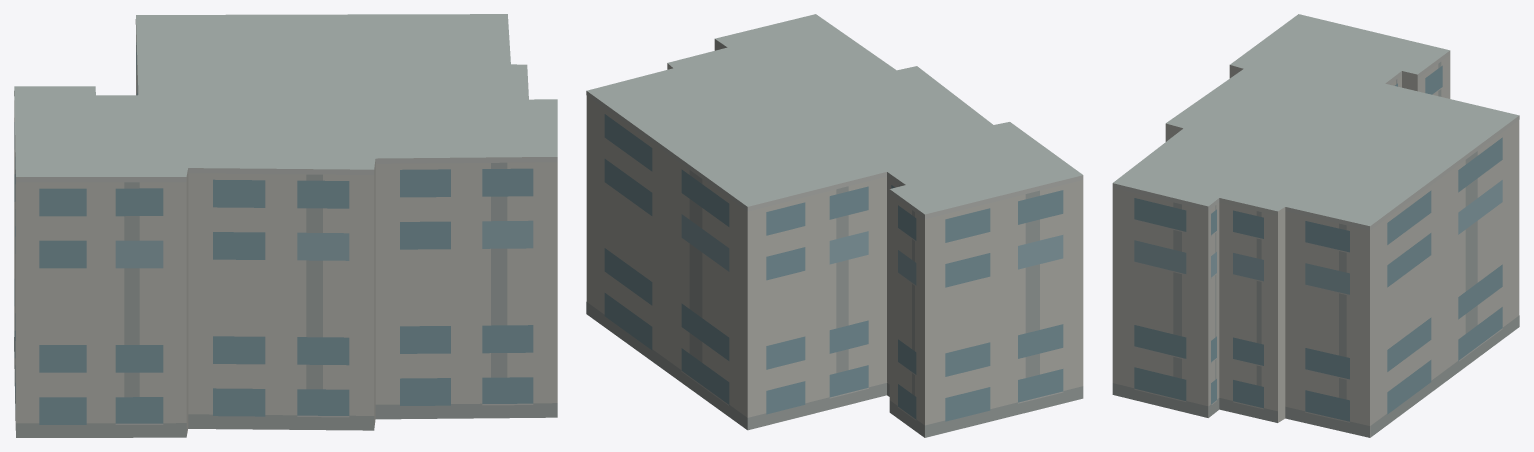
File: survey-upis-32524919.glb
3 renders of one model, left to right at view 1: azimuth 30°, elevation 25°; view 2: azimuth 150°, elevation 25°; view 3: azimuth 270°, elevation 25°, orthographic. The views are drawn at different scales.
Parts seen in each view (by area): view 1: survey-upis-32524919.tmp; view 2: survey-upis-32524919.tmp; view 3: survey-upis-32524919.tmp.
Part boxes in pixels (left/top/right/bottom): survey-upis-32524919.tmp: left=14, top=14, right=557, bottom=437; survey-upis-32524919.tmp: left=586, top=14, right=1083, bottom=437; survey-upis-32524919.tmp: left=1112, top=14, right=1519, bottom=437.
Size of the model in its own units: 24.96 by 11.6 by 20.22.
